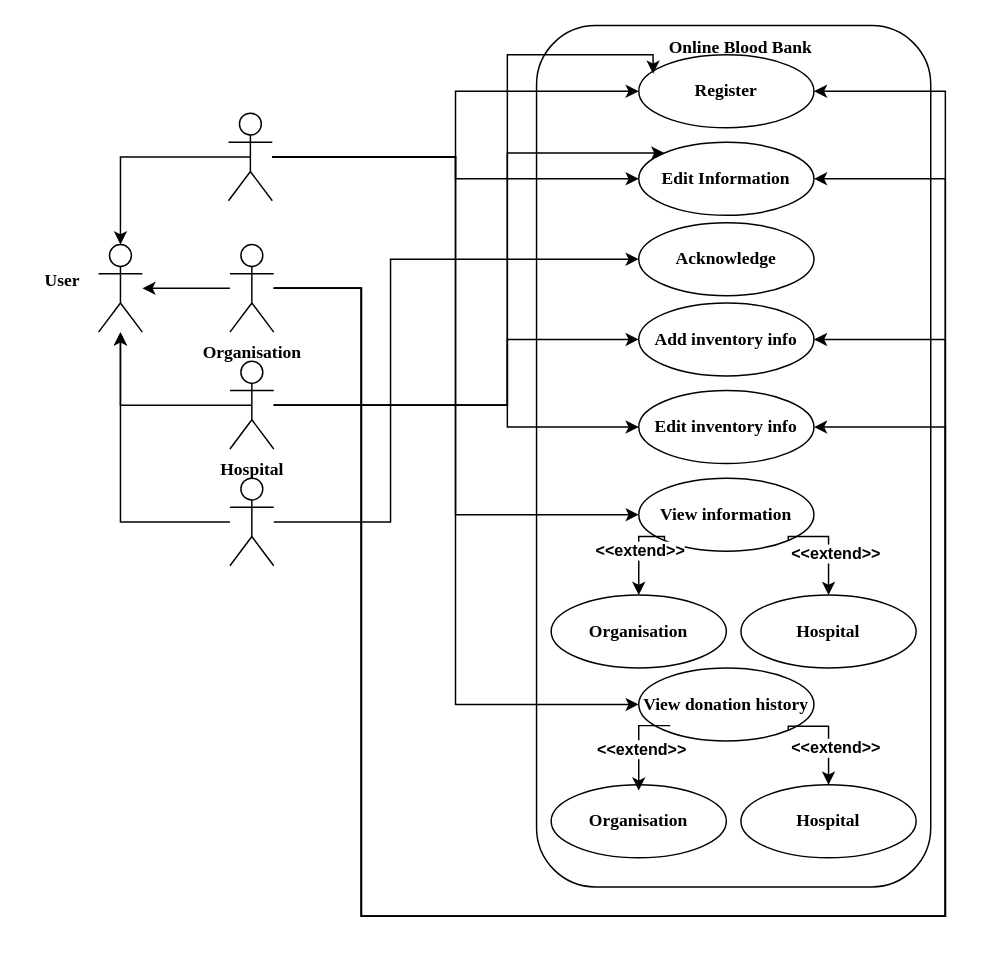
Some shapes in this 983 by 953 pixel diagram are drawn without their labels. The box of each missing label's shape, as (x1, y1, x2, y2) in pixels:
Admin: (228, 477, 274, 566)
Donar: (227, 112, 272, 201)
